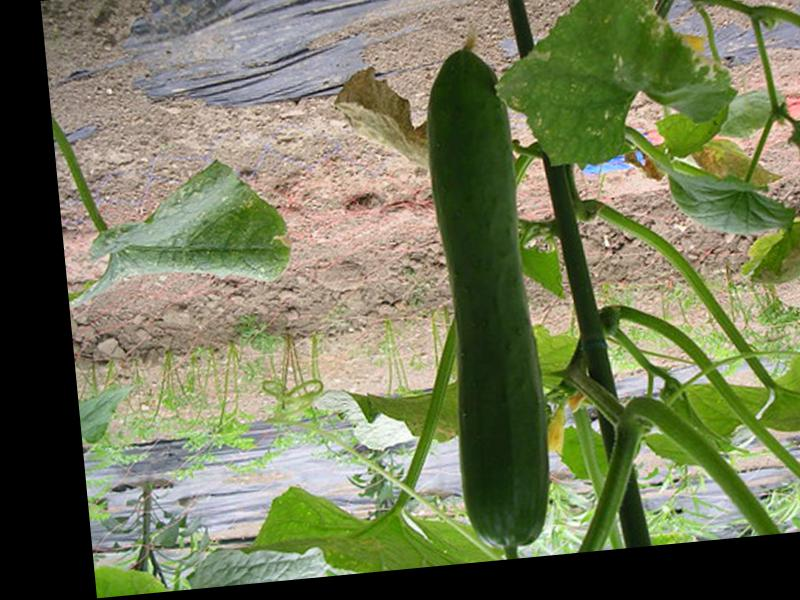Cucumber: (418, 31, 558, 551)
